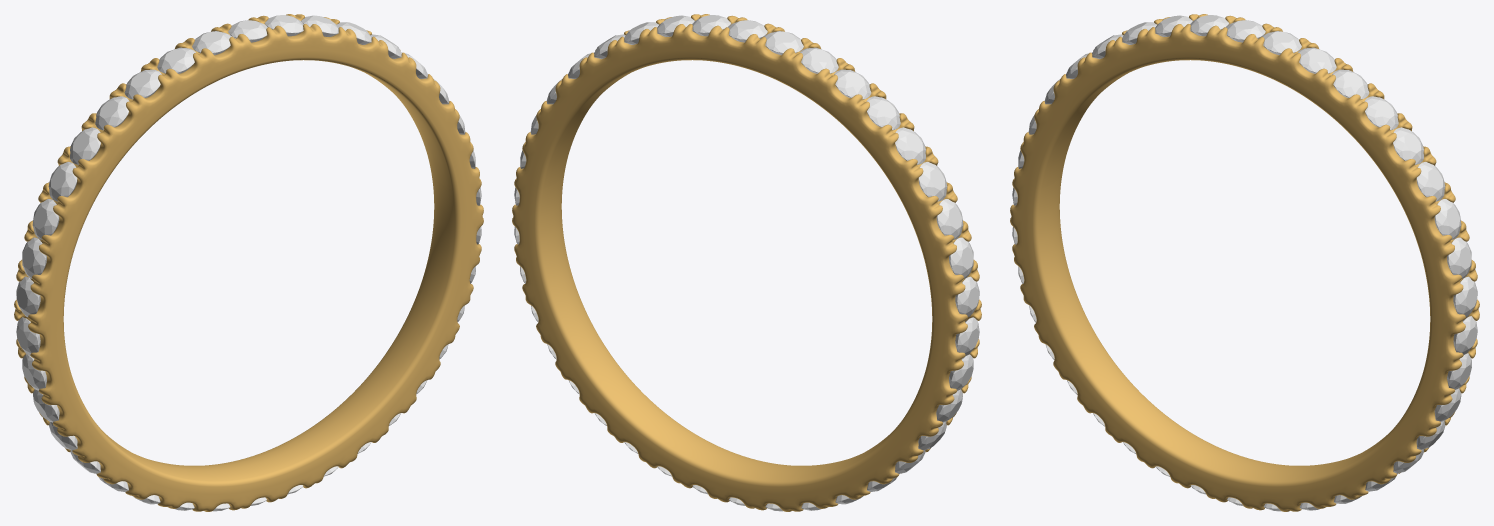
File: full.glb
The picture shows the model from 3 angles, left to right: view 1: azimuth 30°, elevation 25°; view 2: azimuth 150°, elevation 25°; view 3: azimuth 330°, elevation 25°; orthographic projection.
Parts seen in each view (by area): view 1: Shank_part_1.003, Small_Brilliant.002, Small_Brilliant.001; view 2: Shank_part_1.003, Small_Brilliant.002, Small_Brilliant.001; view 3: Shank_part_1.003, Small_Brilliant.002, Small_Brilliant.001.
Boxes of the visible parts, x1=… form: Shank_part_1.003: x1=14, y1=14, x2=483, y2=511; Small_Brilliant.002: x1=16, y1=15, x2=481, y2=317; Small_Brilliant.001: x1=16, y1=226, x2=481, y2=511; Shank_part_1.003: x1=512, y1=14, x2=981, y2=511; Small_Brilliant.002: x1=514, y1=15, x2=979, y2=317; Small_Brilliant.001: x1=514, y1=226, x2=979, y2=511; Shank_part_1.003: x1=1010, y1=14, x2=1479, y2=511; Small_Brilliant.002: x1=1012, y1=15, x2=1477, y2=317; Small_Brilliant.001: x1=1012, y1=227, x2=1477, y2=511.
Size of the model in its own units: 15.8 by 15.81 by 1.5.
